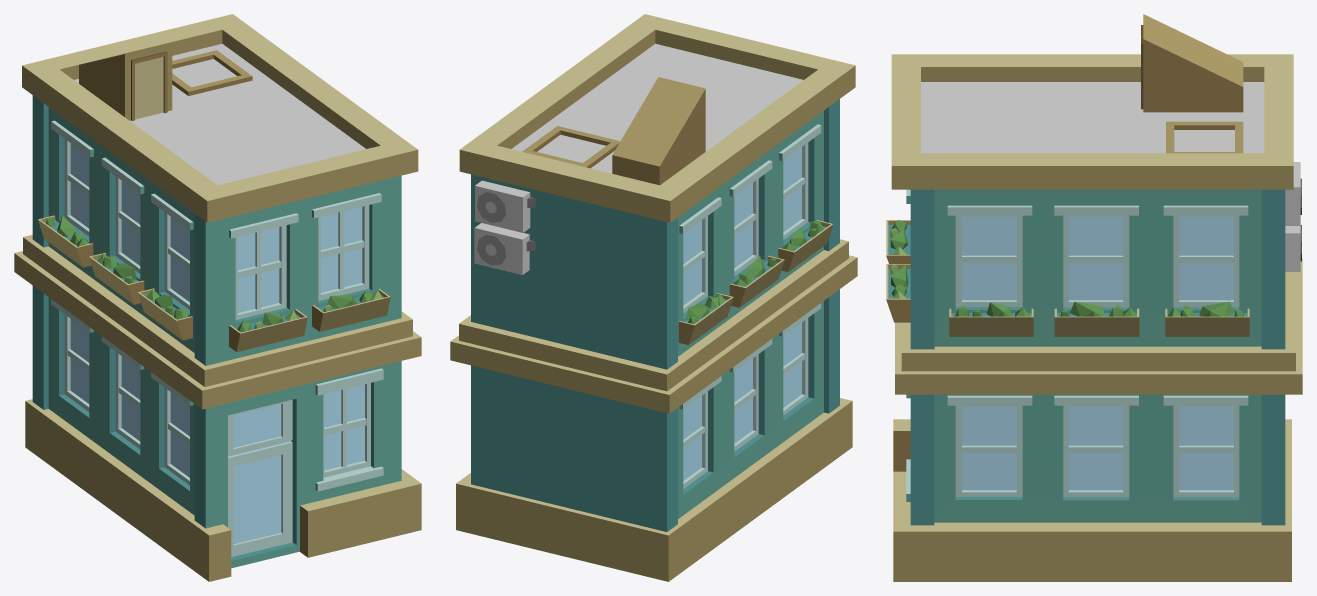
The model's file is house_small_1_010.glb.
3 renders of one model, left to right at view 1: azimuth 30°, elevation 25°; view 2: azimuth 150°, elevation 25°; view 3: azimuth 270°, elevation 25°, orthographic. The views are drawn at different scales.
Parts seen in each view (by area): view 1: house_small_1_010; view 2: house_small_1_010; view 3: house_small_1_010.
Part boxes in pixels (bbox=[...]): house_small_1_010: bbox=[14, 14, 421, 581]; house_small_1_010: bbox=[450, 14, 857, 581]; house_small_1_010: bbox=[886, 14, 1302, 581].
Size of the model in its own units: 3.77 by 7.13 by 5.71.
1 material, 1 textured.
